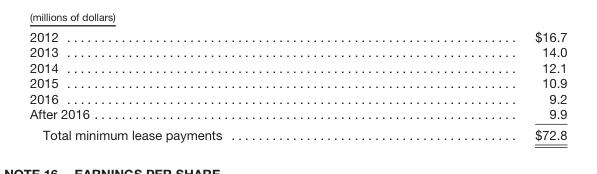table: (28, 28, 566, 142)
table column: (28, 28, 377, 142), (377, 28, 566, 142)
table row: (28, 106, 566, 124), (28, 124, 566, 142), (28, 28, 566, 44), (28, 59, 566, 75), (28, 90, 566, 106), (28, 44, 566, 59), (28, 75, 566, 90)
